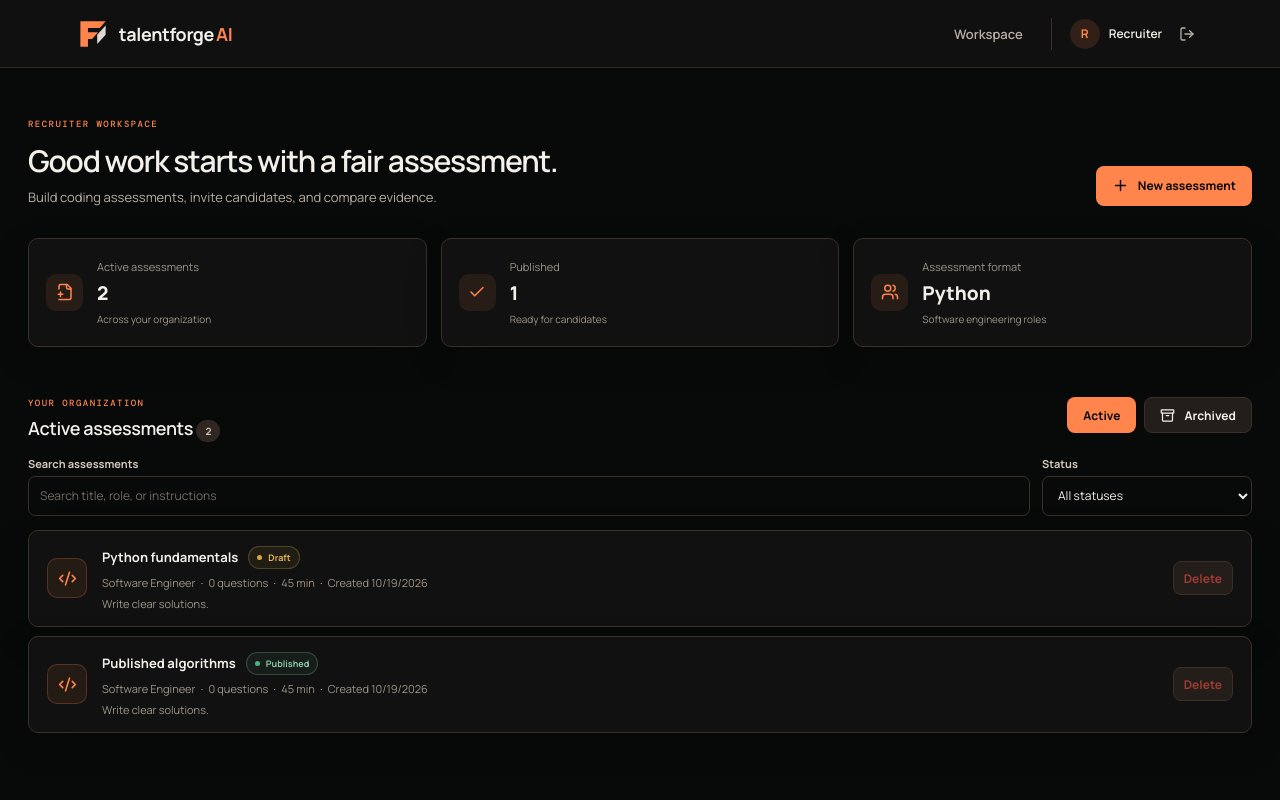
Scenario: recruiter assessment CRUD › searches and filters fetched assessments
Expected: the heading "Python fundamentals" is shown, [102,548,238,566]
Select "Published" in the dropdown named "Filter by status" at (1147, 496), box [1042,476,1252,516]
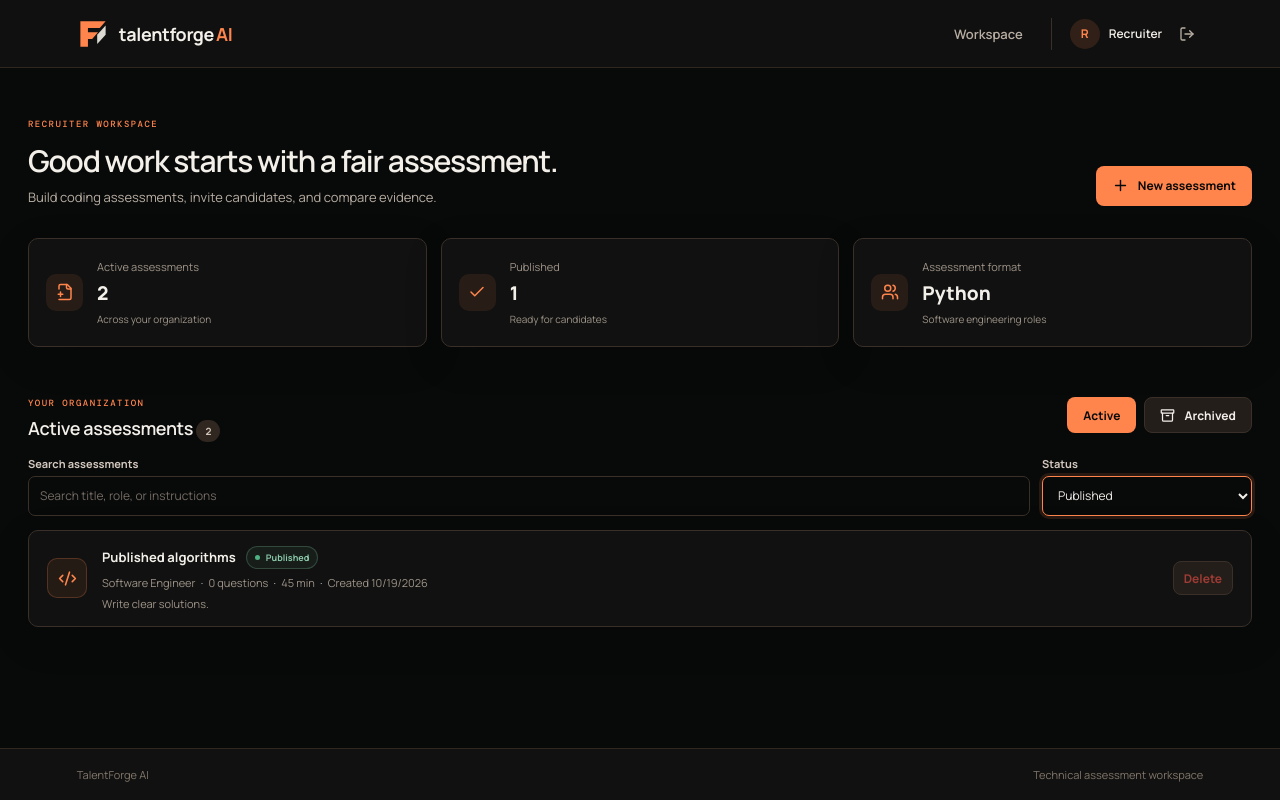
Expected: the heading "Published algorithms" is shown, [102,548,236,566]
Expected: the link "Python fundamentals" is gone
Select "All statuses" in the dropdown named "Filter by status" at (1147, 496), box [1042,476,1252,516]
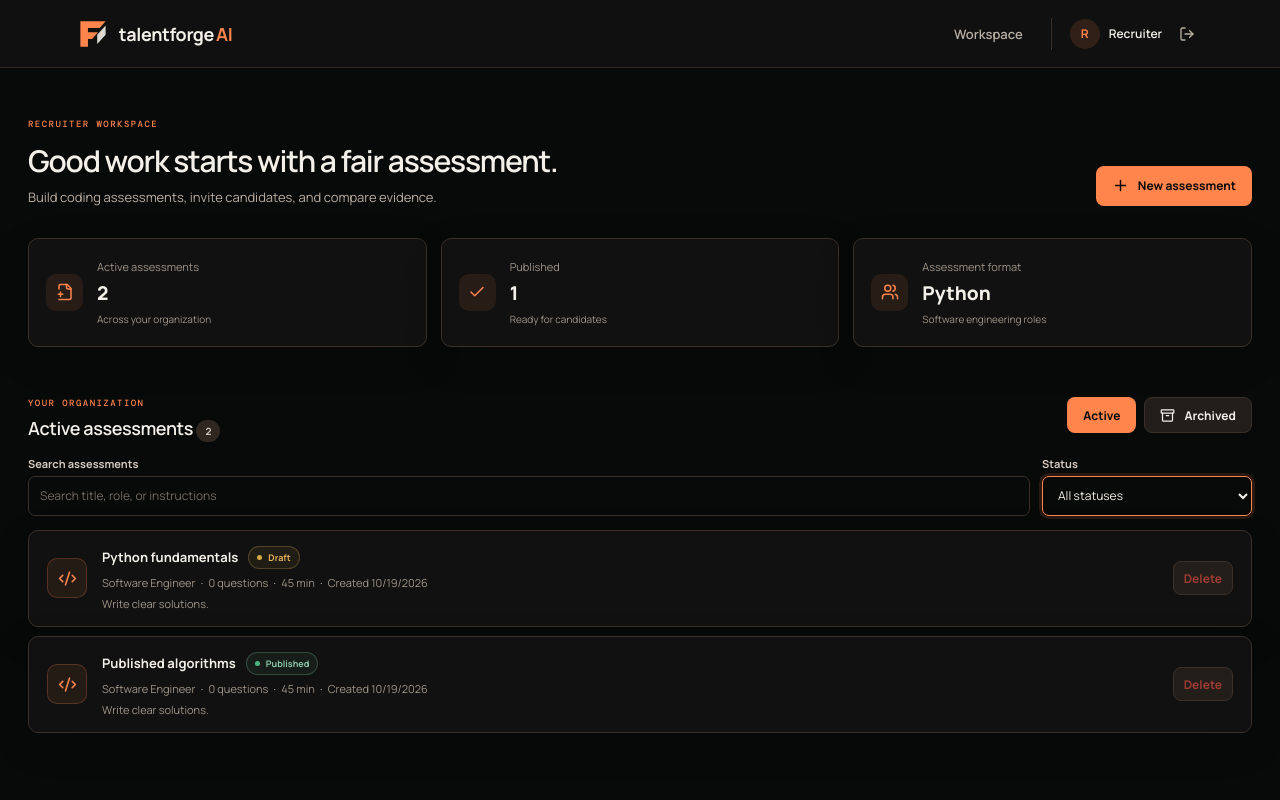
Type "fundamentals" into the search field labelled "Search assessments" at (529, 496), box [28,476,1030,516]
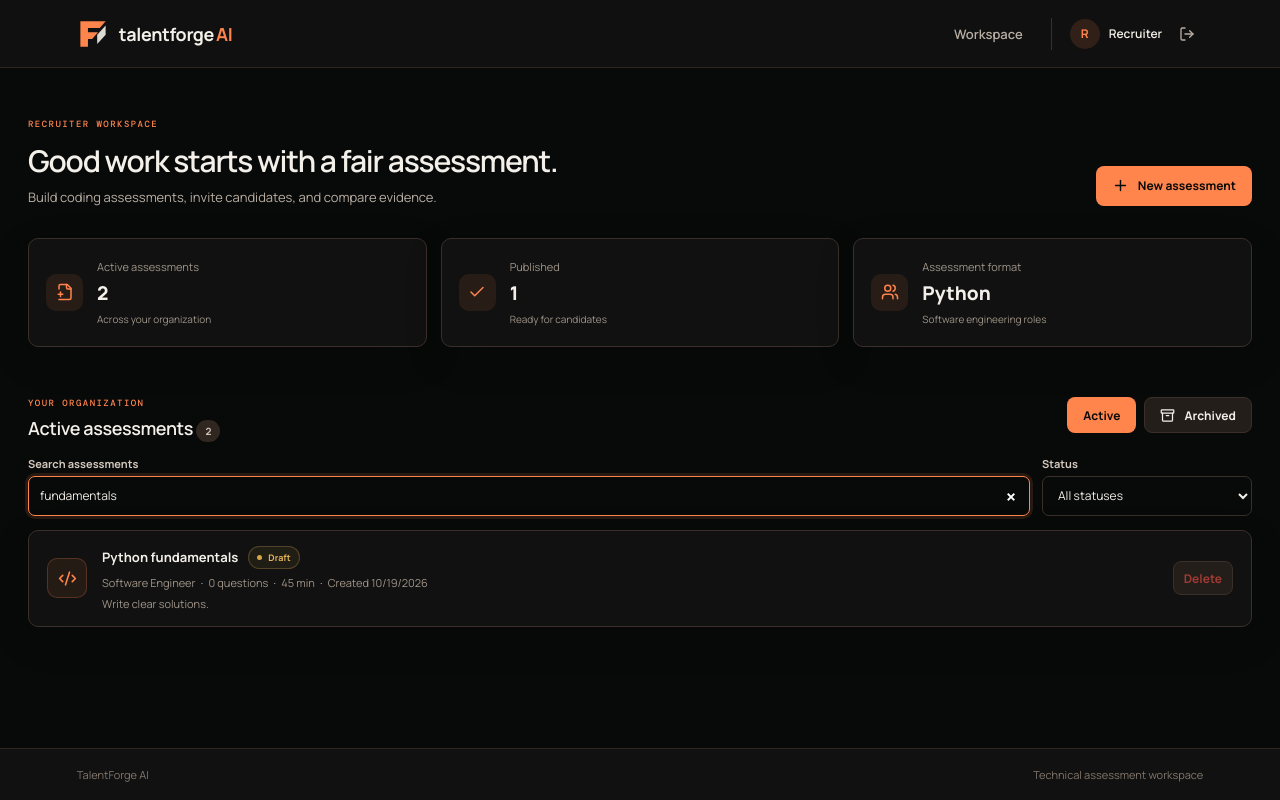
Expected: the heading "Python fundamentals" is shown, [102,548,238,566]
Expected: the link "Published algorithms" is gone
